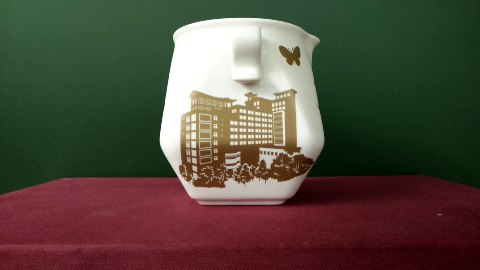butterfly: (270, 31, 315, 73)
lenwen: (188, 104, 295, 174)
